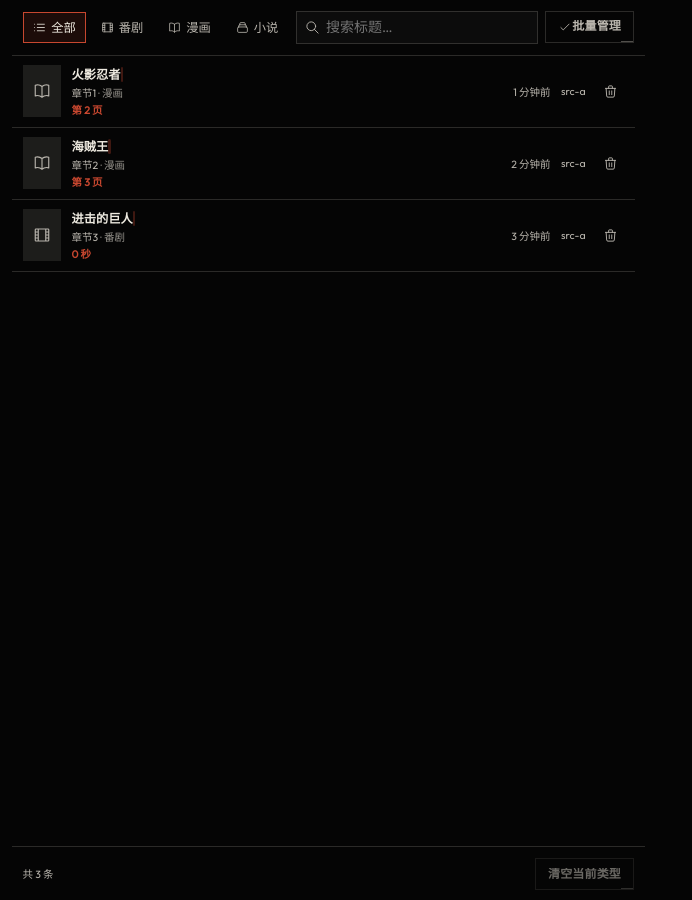
it: HistoryList 基础渲染与筛选 › C2: 关键词 150ms 防抖后过滤，命中子串被 <mark> 包裹；无结果显空态
In the search field with test id "search-input": (427, 27) [326,18,529,36], type "火影"
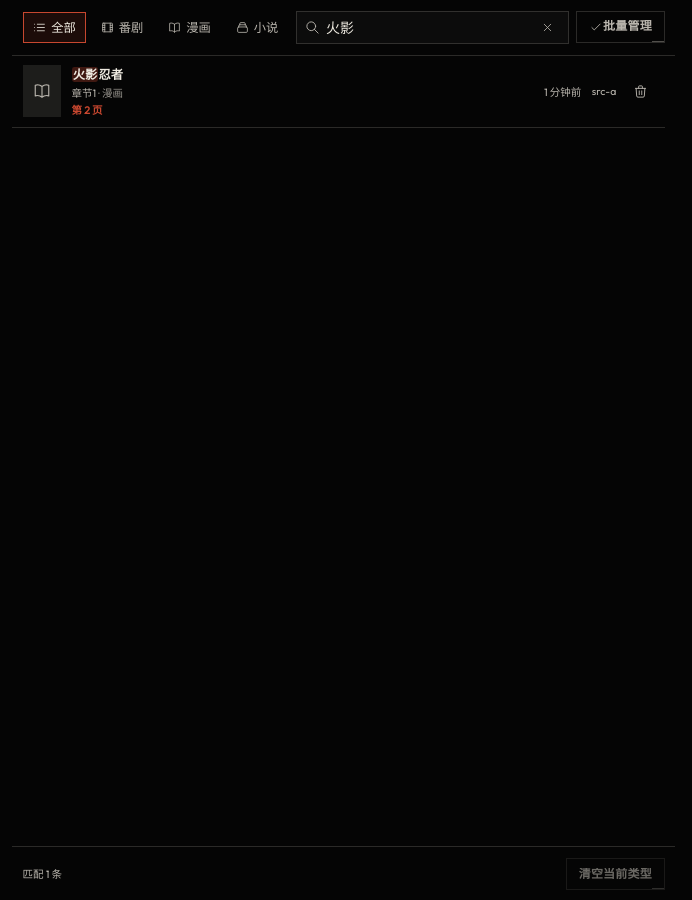
expect the text "火影" is shown: met, box [72,67,98,82]
Replace the text in the search field with test id "search-input" with "不存在的标题": (427, 27) [326,18,529,36]
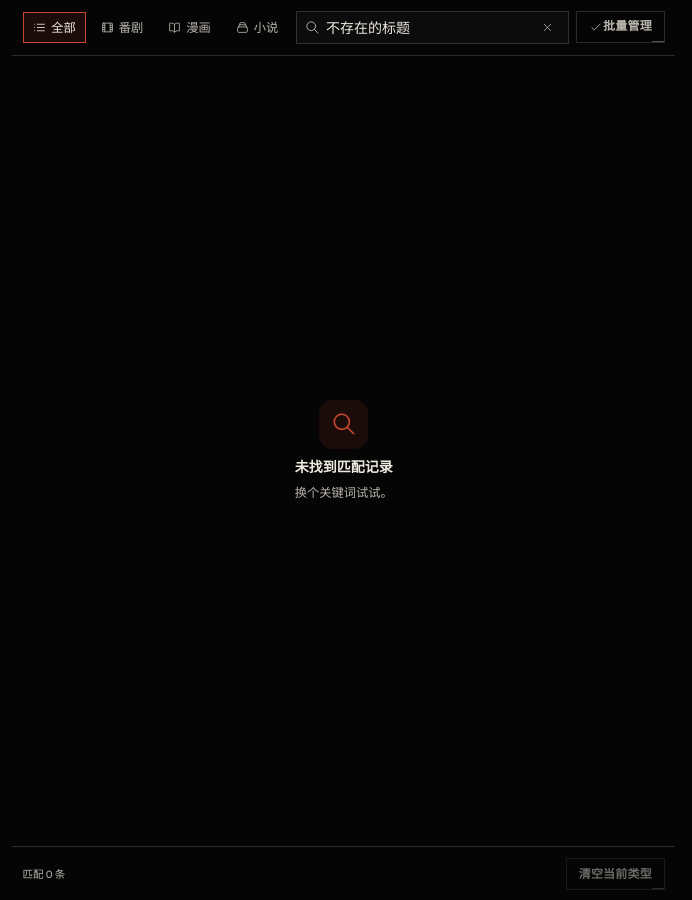
expect the element with test id "history-search-empty" is shown: met, box [295,400,393,500]
expect the list item with test id "history-row" is gone: met
